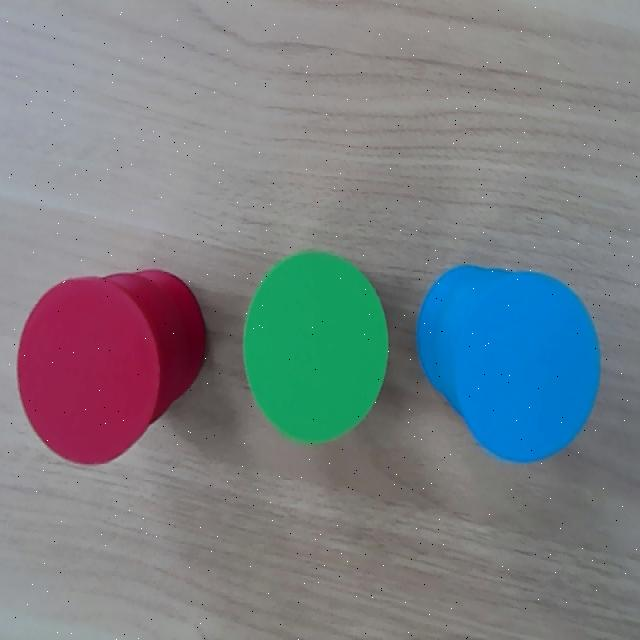b: (458, 271, 599, 460)
g: (242, 250, 388, 443)
r: (18, 277, 158, 464)
